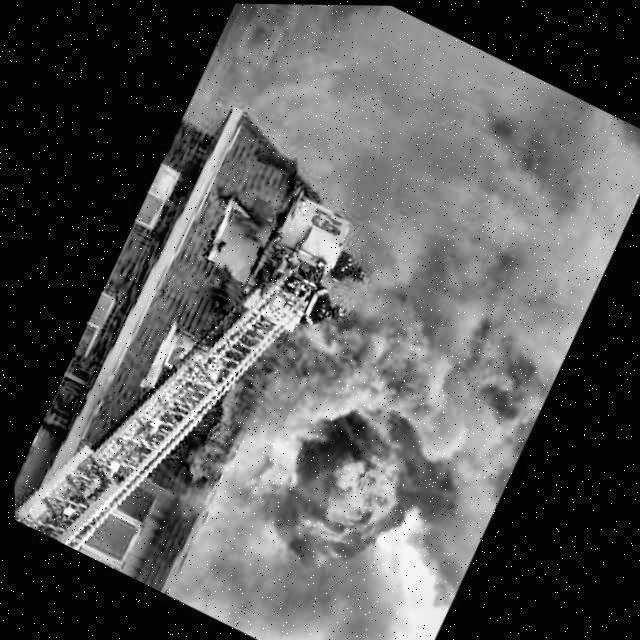Fire: (217, 389, 428, 582)
Smoke: (195, 2, 640, 514), (152, 471, 426, 640)
